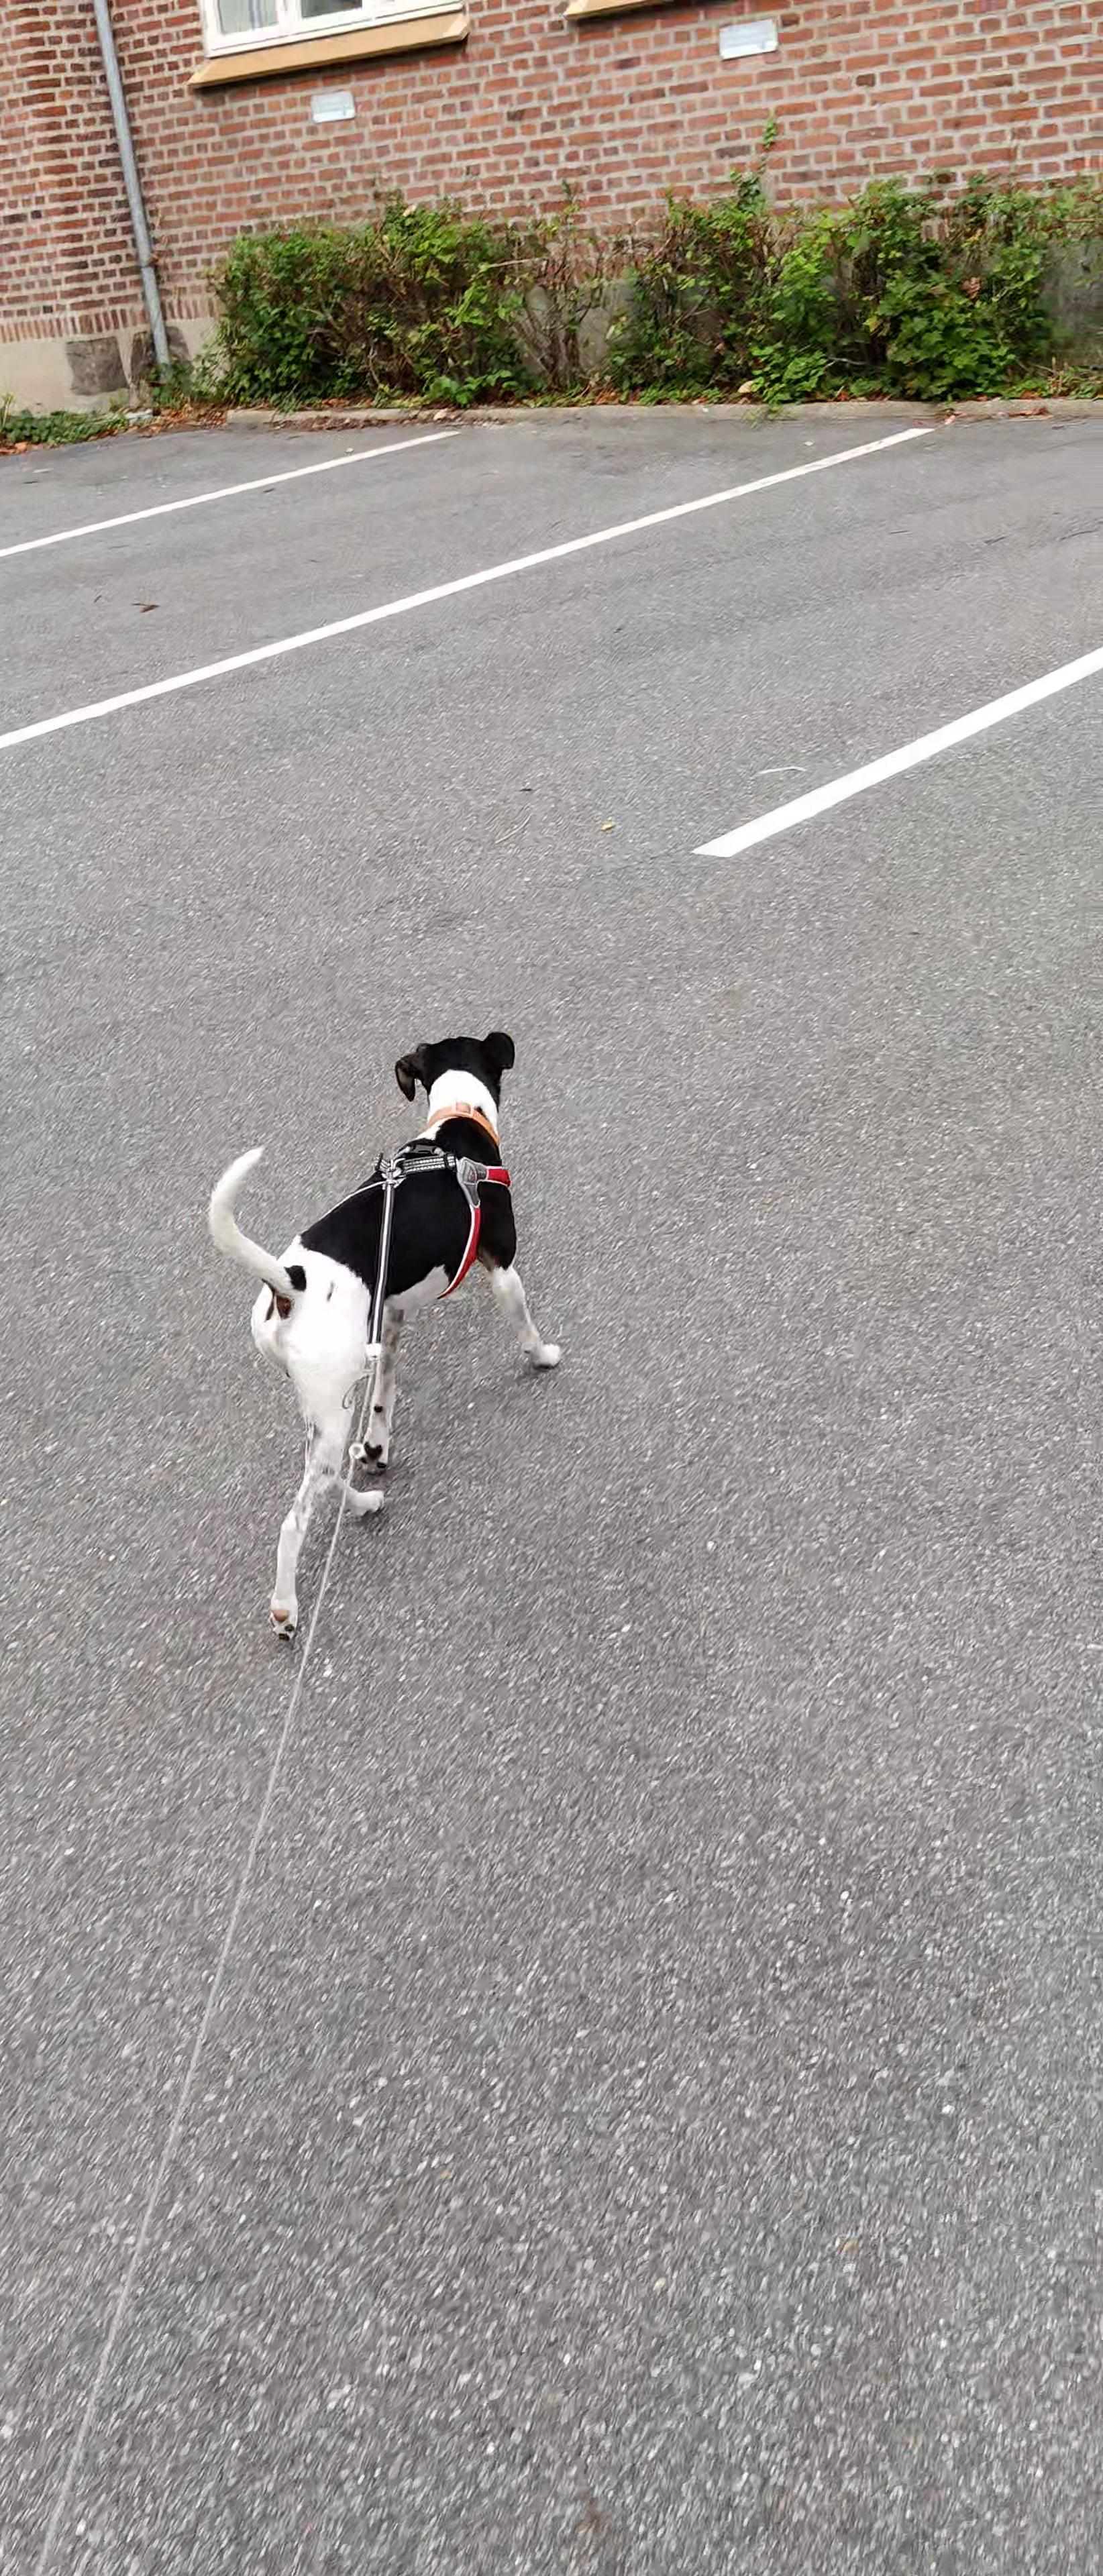Dog: (201, 1027, 572, 1648)
